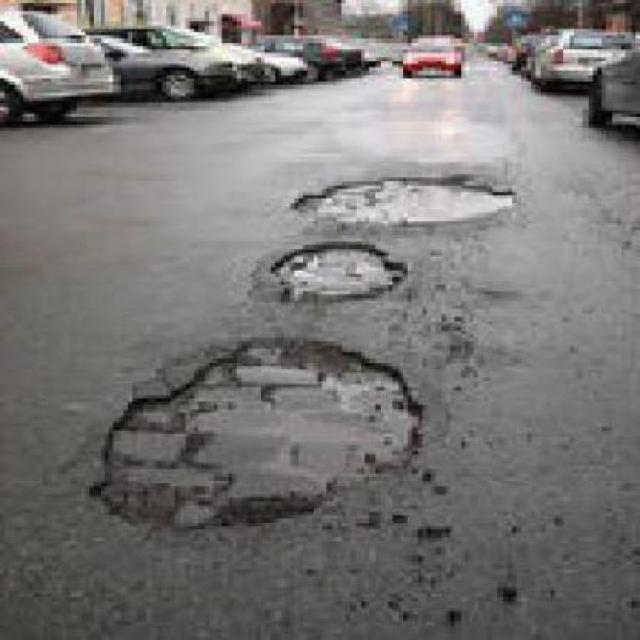Pothole: (72, 329, 433, 541), (282, 172, 522, 225), (263, 243, 412, 304)
